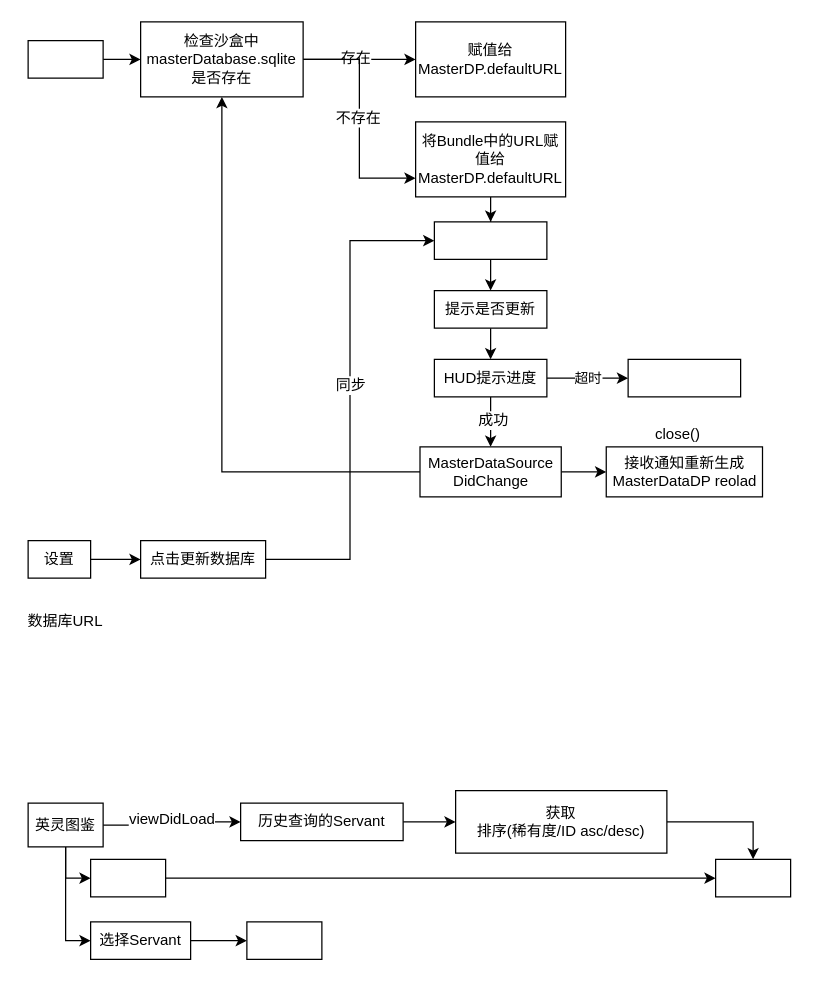
Image size: 813x981. Some labels were removed from this diagram. Each missing label, with the centre of its shape:
"app启动" goes at point 65,58.
"失败" goes at point 684,377.
"异步检查更新" goes at point 490,240.
"英灵详情" goes at point 284,940.
"请求数据" goes at point 752,877.
"高级筛选" goes at point 127,877.
